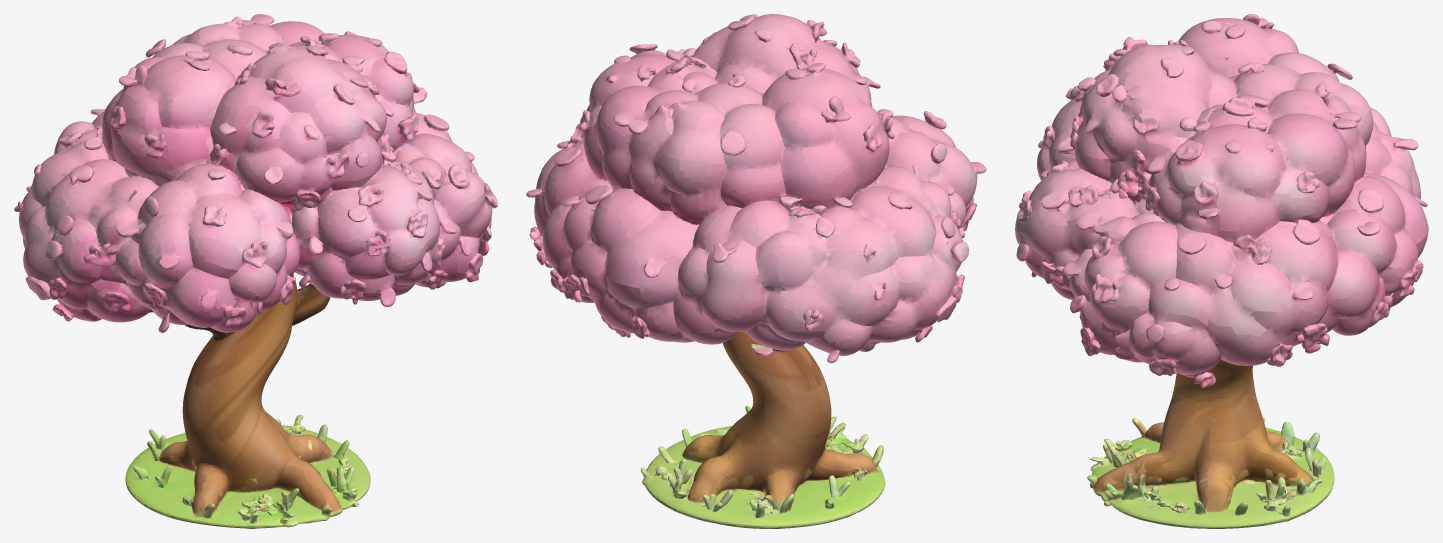
File: nat_tree_sakura_01.glb
3 renders of one model, left to right at view 1: azimuth 30°, elevation 25°; view 2: azimuth 150°, elevation 25°; view 3: azimuth 270°, elevation 25°, orthographic.
Visible parts, largest first — view 1: geometry_0; view 2: geometry_0; view 3: geometry_0.
Part boxes in pixels (left/top/right/bottom): geometry_0: left=14, top=14, right=497, bottom=528; geometry_0: left=526, top=14, right=986, bottom=528; geometry_0: left=1015, top=14, right=1428, bottom=528.
Bounding box in the file's own units: 0.3194 × 0.32 × 0.2721.
Materials: 1 (1 with a texture image).
